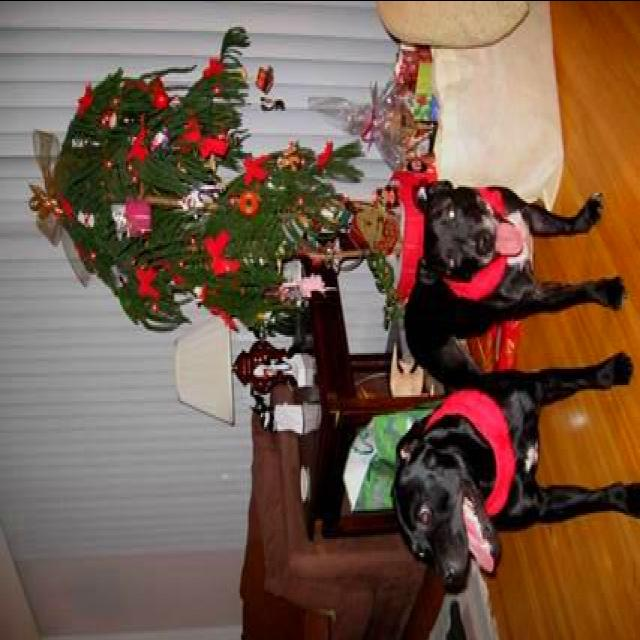staffordshire_bullterrier: (390, 350, 638, 592), (403, 176, 627, 390)
